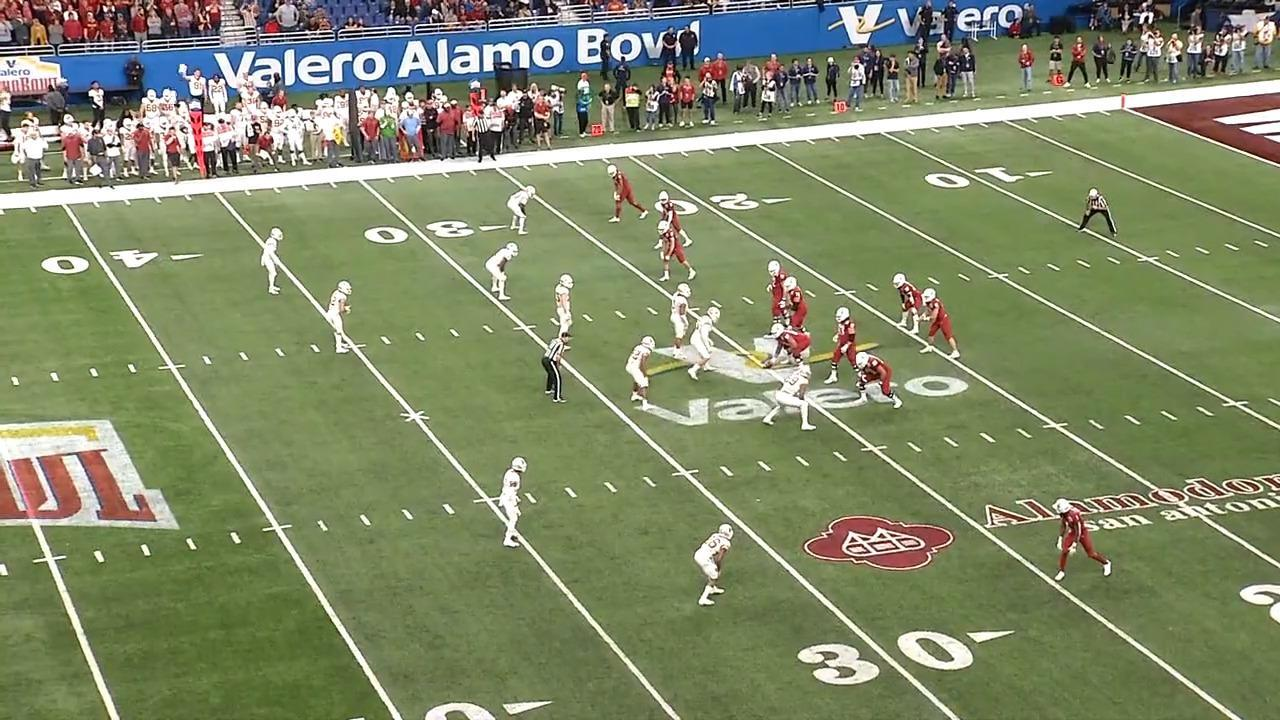defense: (692, 519, 738, 609), (762, 363, 816, 434), (496, 456, 532, 554), (326, 278, 358, 355), (690, 302, 722, 377), (626, 333, 657, 410), (261, 225, 290, 299), (486, 241, 519, 304), (671, 280, 697, 355), (555, 271, 578, 348), (506, 182, 538, 235)
oline: (851, 349, 905, 412), (763, 257, 792, 340), (768, 322, 813, 375), (830, 303, 859, 383), (779, 274, 810, 336)
qb: (917, 285, 963, 363)
ref: (540, 335, 573, 407), (1074, 183, 1117, 238), (476, 103, 501, 166)
skill: (1047, 494, 1117, 585), (608, 163, 650, 226), (659, 220, 699, 282), (893, 272, 927, 341), (656, 189, 693, 248)
